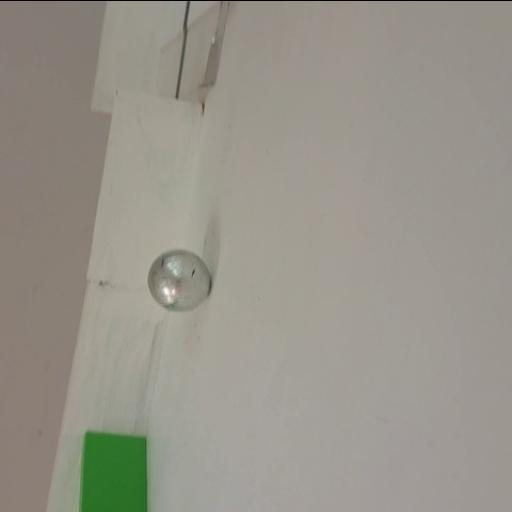alive: (146, 242, 216, 314)
